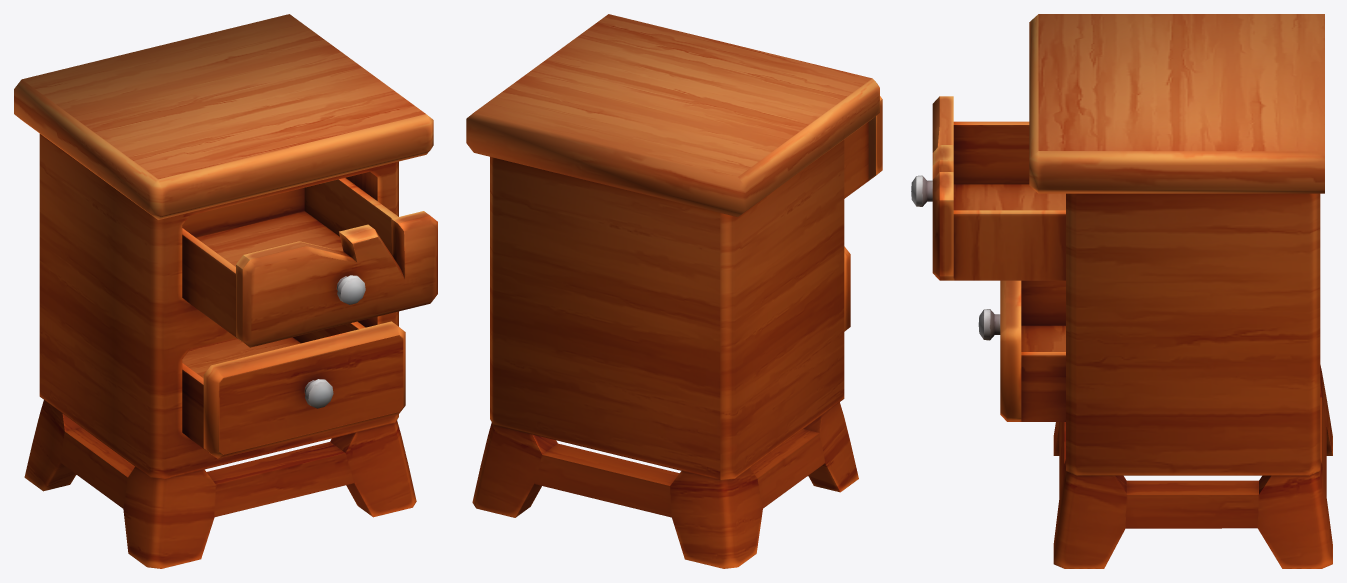
Rendered from Bedside01.FBX.
3 renders of one model, left to right at view 1: azimuth 30°, elevation 25°; view 2: azimuth 150°, elevation 25°; view 3: azimuth 270°, elevation 25°, orthographic. The views are drawn at different scales.
Visible parts, largest first — view 1: Bedside01; view 2: Bedside01; view 3: Bedside01.
Part boxes in pixels (box(x1,y1,x2,y2)): Bedside01: box(14, 14, 437, 568); Bedside01: box(466, 14, 882, 568); Bedside01: box(911, 14, 1332, 568).
Size of what is drawn, in the model's own units: 0.6191 by 0.8309 by 0.7625.
